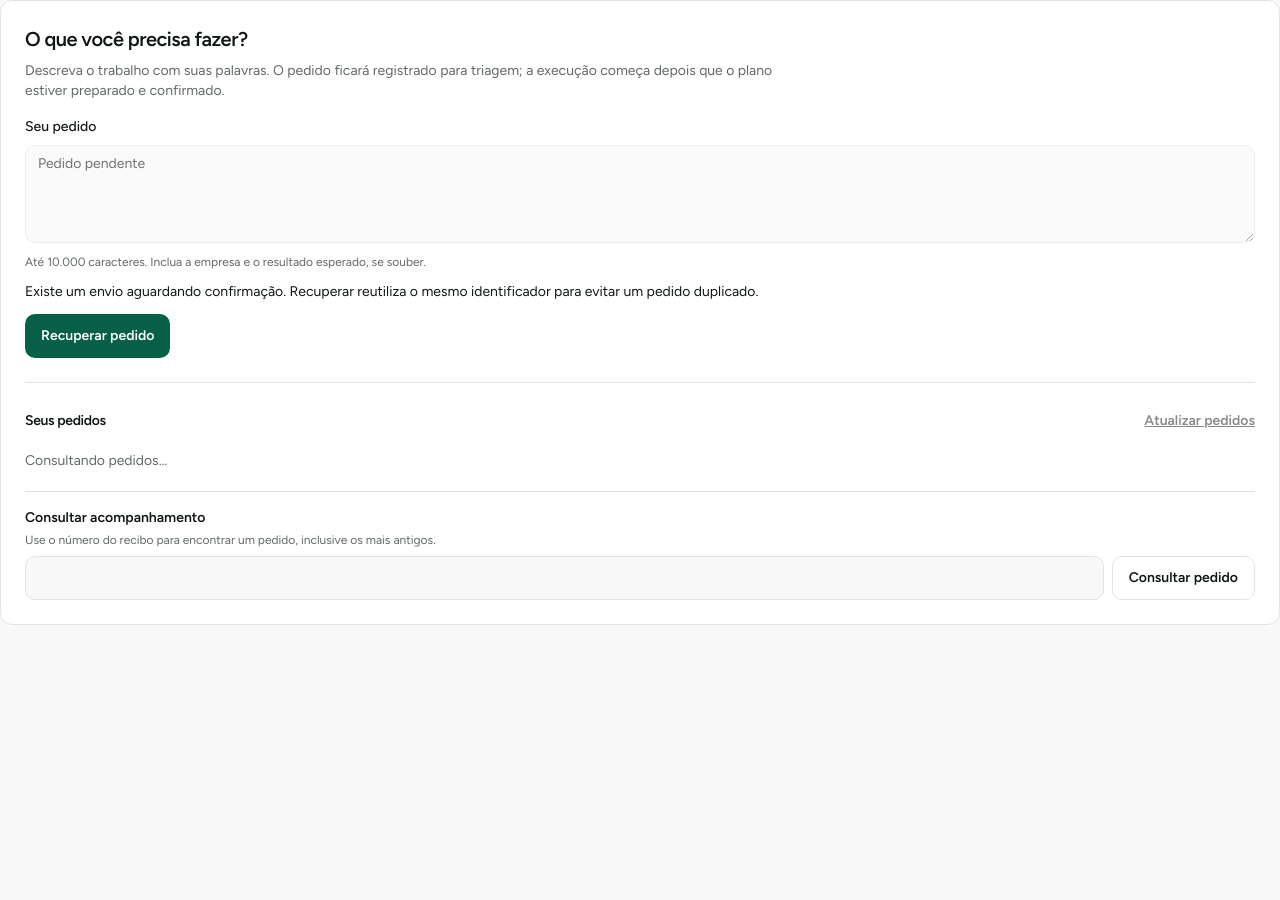
Test: consulta ausente ou com erro não apaga um envio pendente e não expõe mensagens internas
Type "00000000-0000-4000-8000-000000000010" into the field labelled "Consultar acompanhamento" at (564, 578), box [25,556,1104,600]
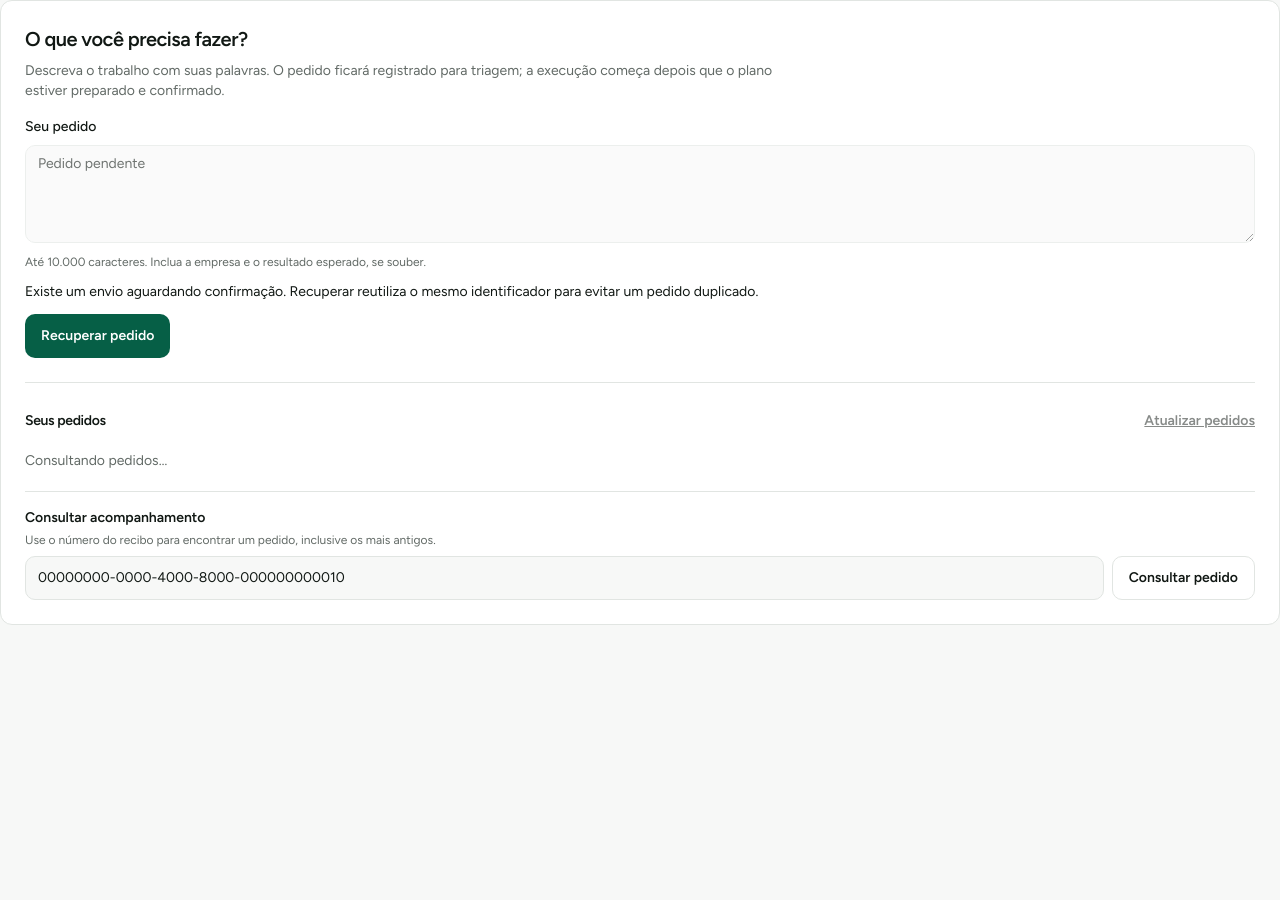
Click the button "Consultar pedido" at (1183, 578), box [1112,556,1255,600]
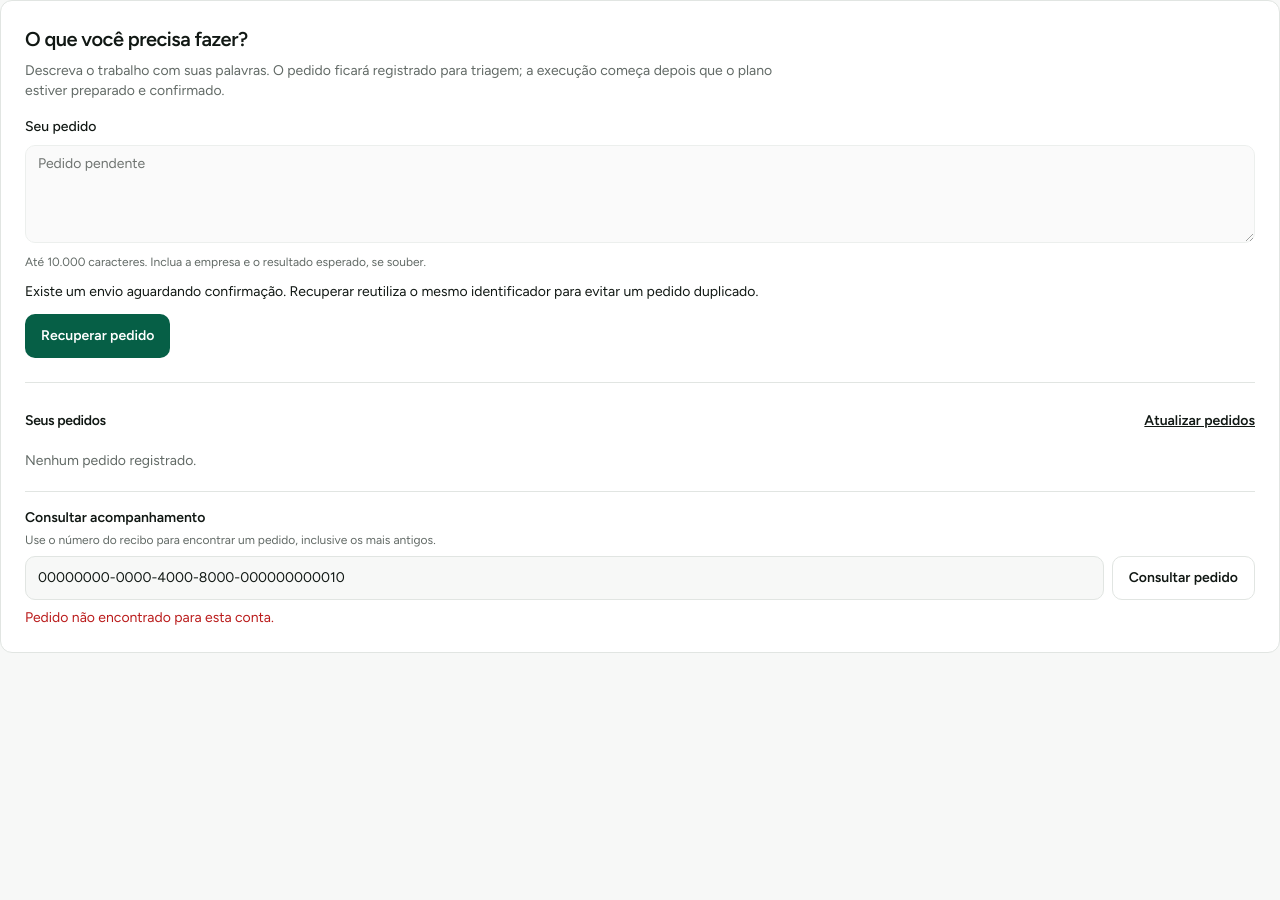
Expected: the text "Pedido não encontrado para esta conta." is shown, [25,609,274,626]
Click the button "Consultar pedido" at (1183, 578), box [1112,556,1255,600]
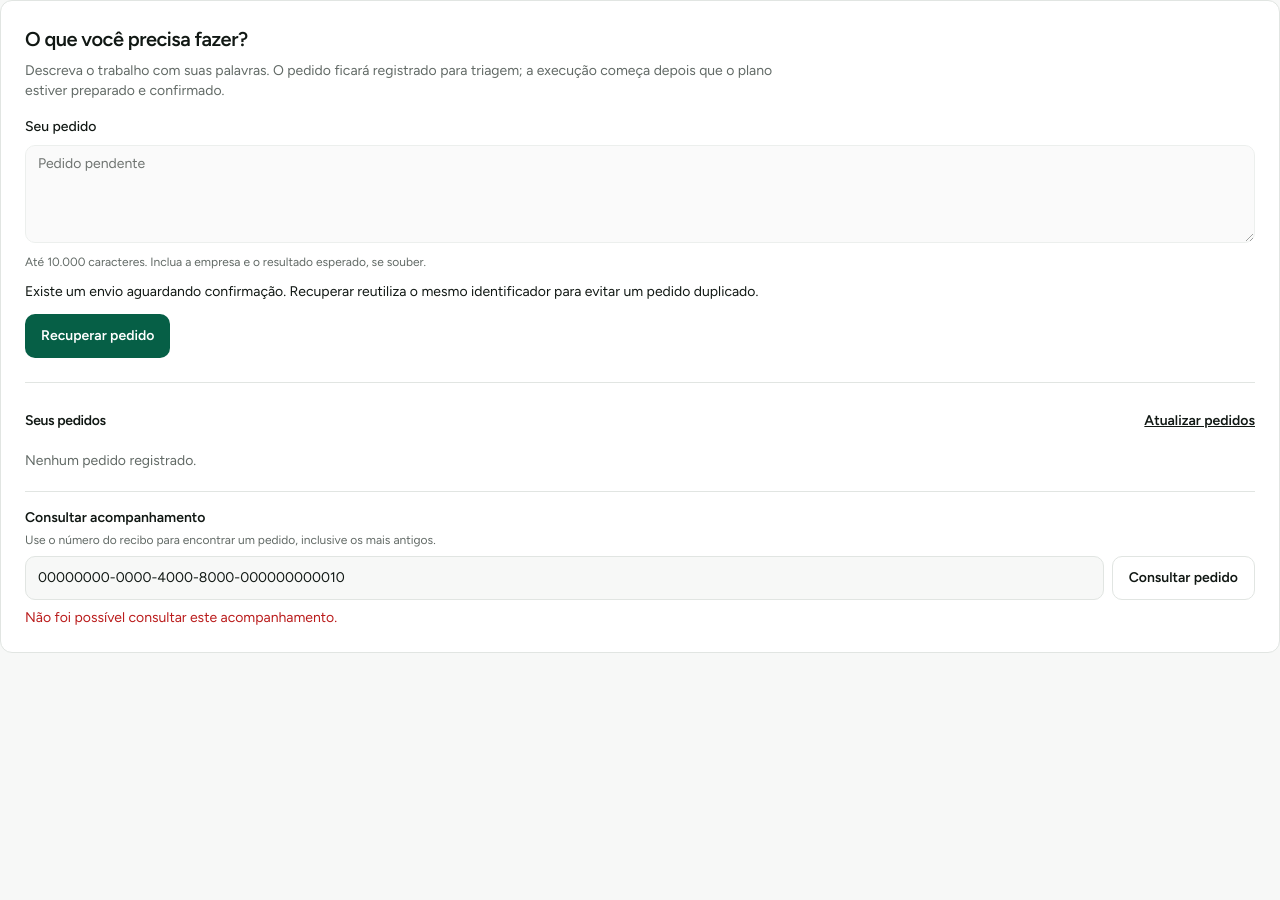
Expected: the text "Não foi possível consultar este acompanhamento." is shown, [25,609,337,626]
